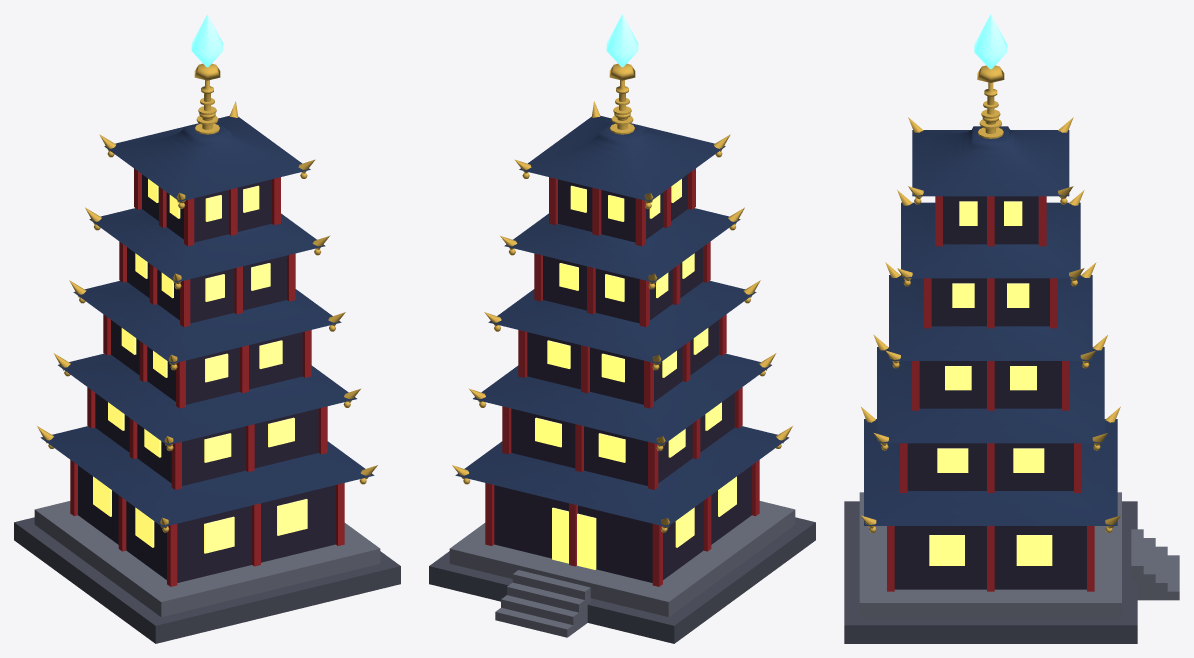
File: tower.glb
The picture shows the model from 3 angles, left to right: view 1: azimuth 30°, elevation 25°; view 2: azimuth 150°, elevation 25°; view 3: azimuth 270°, elevation 25°; orthographic projection. The views are drawn at different scales.
Parts seen in each view (by area): view 1: Roof_24365A, Wall_2E2840, Stone_6B6F7E, StoneDark_4A4D5C, Pillar_B3262E, Window_FFC86B, Gold_E6B84A, Crystal_8FF3FF; view 2: Roof_24365A, Wall_2E2840, Stone_6B6F7E, Pillar_B3262E, Window_FFC86B, StoneDark_4A4D5C, Gold_E6B84A, Crystal_8FF3FF; view 3: Roof_24365A, Wall_2E2840, Stone_6B6F7E, StoneDark_4A4D5C, Window_FFC86B, Pillar_B3262E, Gold_E6B84A, Crystal_8FF3FF.
Part boxes in pixels (bbox=[...]): Roof_24365A: bbox=[40, 115, 374, 526]; Wall_2E2840: bbox=[78, 174, 335, 582]; Stone_6B6F7E: bbox=[34, 501, 380, 616]; StoneDark_4A4D5C: bbox=[14, 517, 400, 643]; Pillar_B3262E: bbox=[70, 168, 344, 586]; Window_FFC86B: bbox=[93, 179, 307, 553]; Gold_E6B84A: bbox=[37, 63, 377, 532]; Crystal_8FF3FF: bbox=[191, 14, 223, 67]; Roof_24365A: bbox=[455, 115, 789, 526]; Wall_2E2840: bbox=[494, 174, 751, 582]; Stone_6B6F7E: bbox=[449, 501, 795, 637]; Pillar_B3262E: bbox=[485, 168, 759, 586]; Window_FFC86B: bbox=[535, 179, 736, 569]; StoneDark_4A4D5C: bbox=[429, 517, 815, 643]; Gold_E6B84A: bbox=[452, 63, 792, 532]; Crystal_8FF3FF: bbox=[606, 14, 638, 67]; Roof_24365A: bbox=[864, 126, 1117, 525]; Wall_2E2840: bbox=[894, 196, 1086, 589]; Stone_6B6F7E: bbox=[859, 492, 1179, 618]; StoneDark_4A4D5C: bbox=[844, 501, 1137, 643]; Window_FFC86B: bbox=[929, 201, 1052, 565]; Pillar_B3262E: bbox=[887, 196, 1094, 591]; Gold_E6B84A: bbox=[861, 65, 1120, 532]; Crystal_8FF3FF: bbox=[974, 14, 1007, 69].
Size of the model in its own units: 60.71 by 130 by 69.46.
